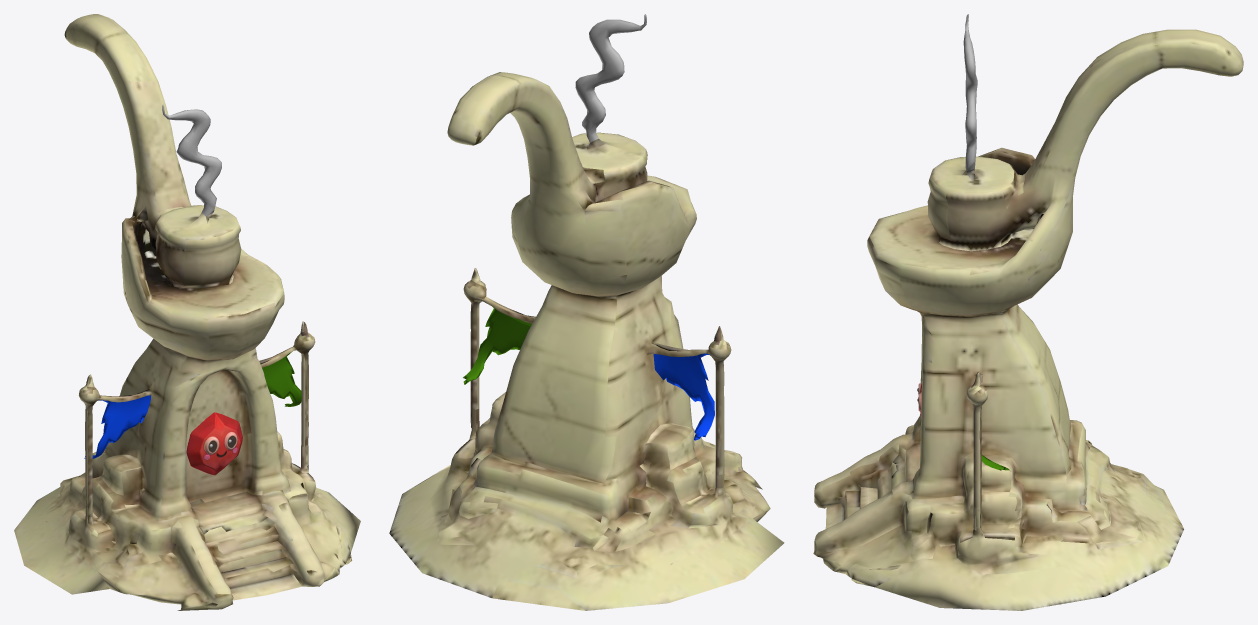
The model's file is obelisk.glb.
The picture shows the model from 3 angles, left to right: view 1: azimuth 30°, elevation 25°; view 2: azimuth 150°, elevation 25°; view 3: azimuth 270°, elevation 25°; orthographic projection. The views are drawn at different scales.
Parts seen in each view (by area): view 1: obelisk, face, smoke, flag1, flag1_1; view 2: obelisk, smoke, flag1, flag1_1; view 3: obelisk, smoke.
Part boxes in pixels (x1,y1,x2,y2): obelisk: (14,14,360,610); face: (186,412,242,475); smoke: (162,105,221,216); flag1: (84,395,150,458); flag1_1: (262,351,301,406); obelisk: (389,72,784,610); smoke: (575,14,646,142); flag1: (653,353,714,440); flag1_1: (463,306,531,384); obelisk: (813,29,1243,610); smoke: (963,14,977,170).
Size of the model in its own units: 1.71 by 2.44 by 1.91.
Materials: 6 (2 with a texture image).
